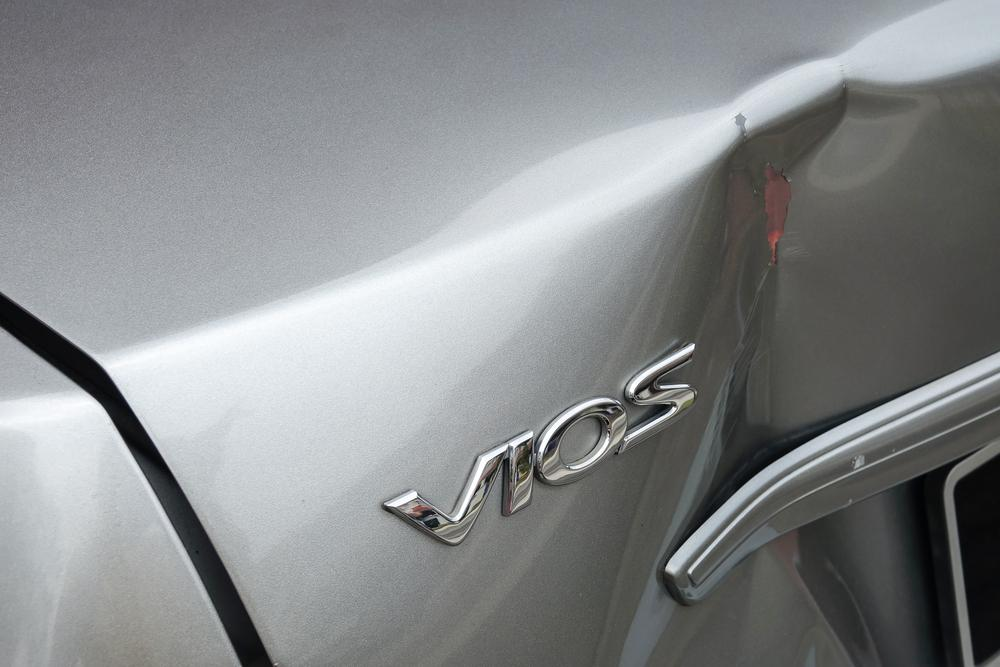dent: (626, 83, 927, 667)
